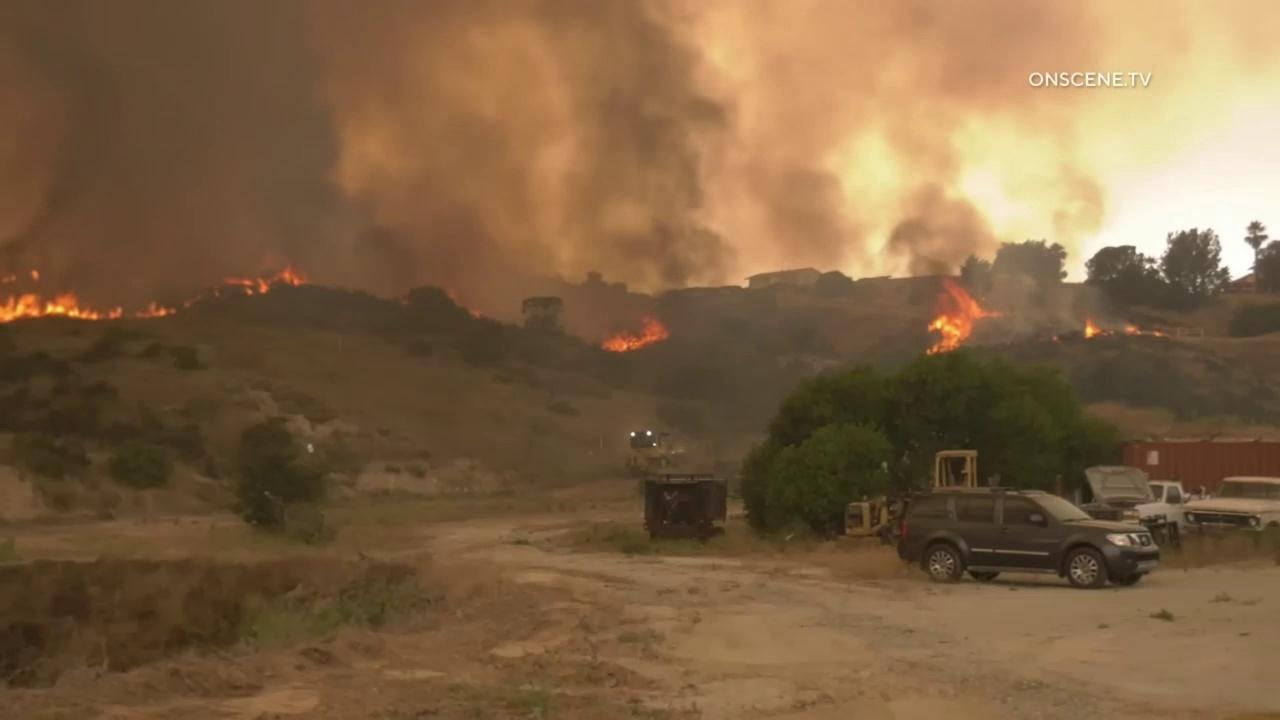fire: (926, 274, 1004, 355), (0, 289, 105, 325), (600, 312, 670, 352), (256, 265, 305, 295), (135, 302, 177, 318), (224, 277, 255, 295), (1084, 319, 1102, 339), (108, 306, 123, 321), (1122, 325, 1142, 335), (31, 270, 40, 282), (1153, 330, 1163, 338), (1109, 330, 1116, 335), (1052, 336, 1059, 341)
smoke: (0, 0, 1280, 344)
